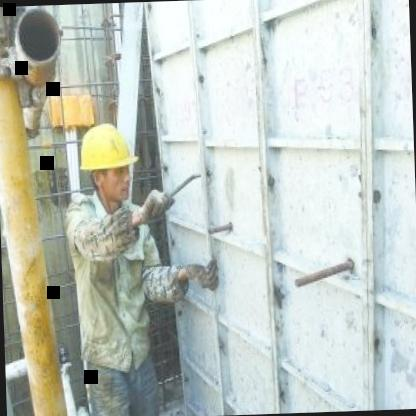helmet: (74, 116, 141, 208)
